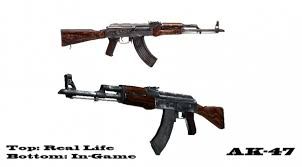gun: (57, 73, 226, 156), (58, 19, 228, 68)
